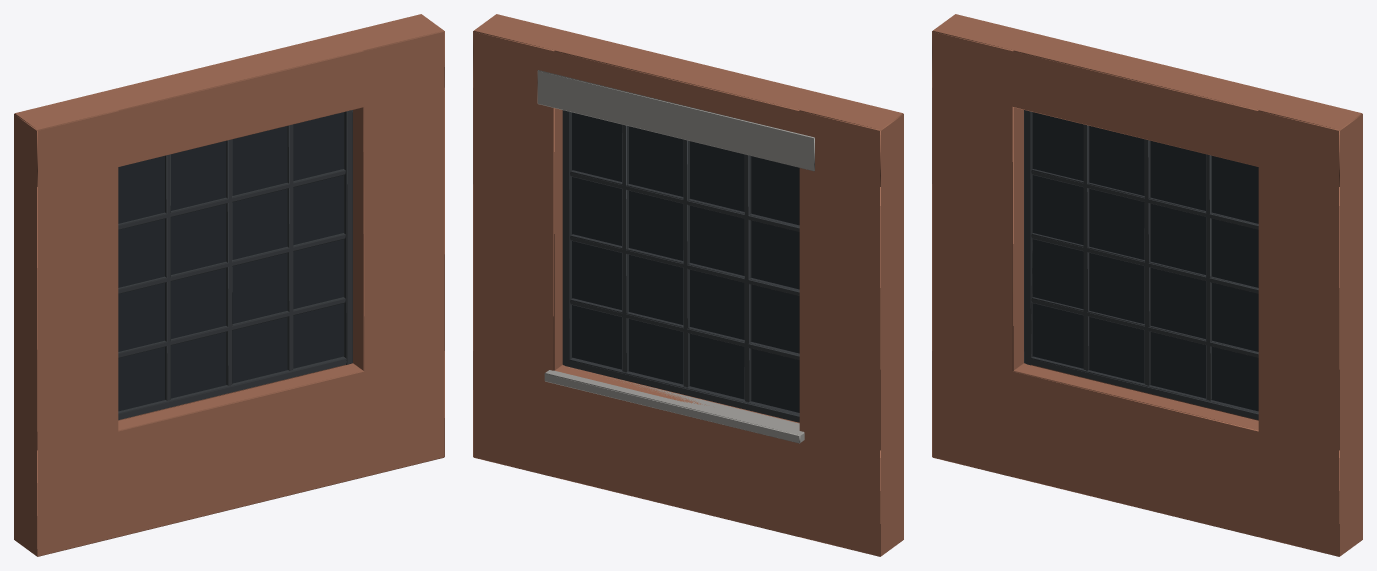
Rendered from SM_VB_FacB_Window.fbx.
3 views of the same model, side by side, from view 1: azimuth 30°, elevation 25°; view 2: azimuth 150°, elevation 25°; view 3: azimuth 330°, elevation 25° (orthographic).
Parts seen in each view (by area): view 1: SM_VB_FacB_Window; view 2: SM_VB_FacB_Window; view 3: SM_VB_FacB_Window.
Part boxes in pixels (x1=…): SM_VB_FacB_Window: x1=14, y1=14, x2=444, y2=556; SM_VB_FacB_Window: x1=473, y1=14, x2=903, y2=556; SM_VB_FacB_Window: x1=932, y1=14, x2=1362, y2=556.
Size of the model in its own units: 3 by 3 by 0.36.
